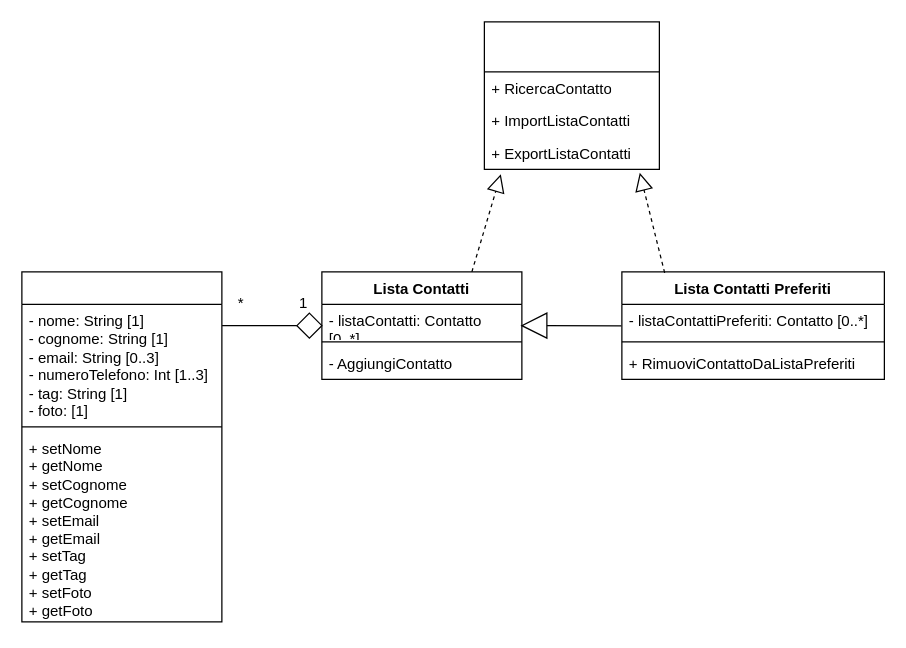
The diagram is 906 pixels wide and 648 high, and some of its shapes have lost their labels. Here are the shapes that lost their labels. From the top down, the box of each, then its label:
(483, 21, 659, 169): «interface» OperazioniRubrica
(21, 271, 222, 622): Contatto
